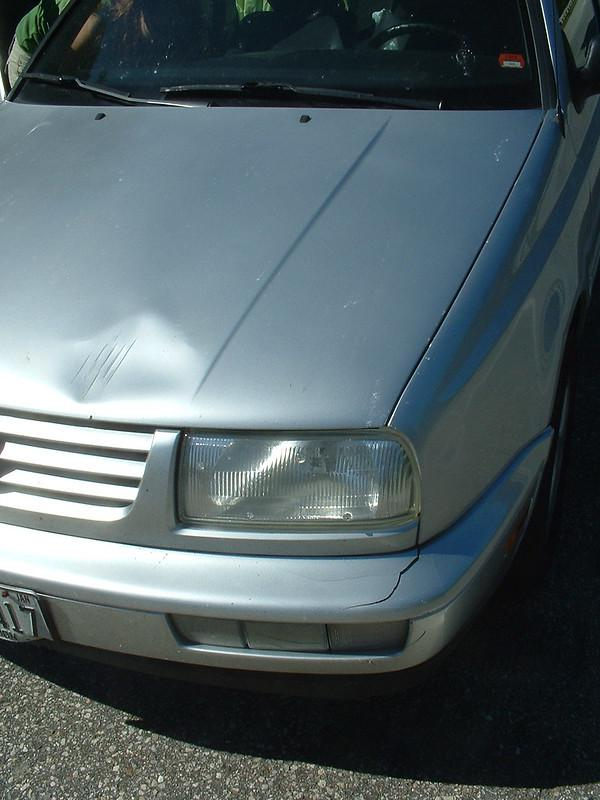bonnet-dent: (5, 202, 392, 440)
